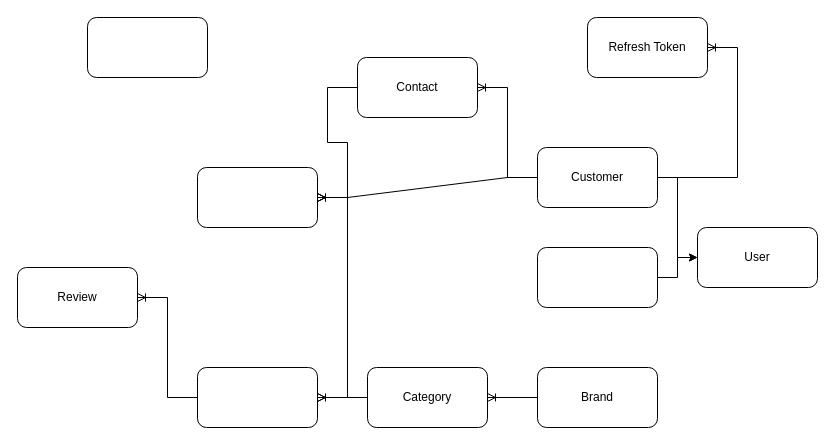
Image size: 835x445. Some labels were removed from this diagram. The shapes that lost their labels are listed below. From the top down, each one's centre as x and y in pixels, then its label:
[147,47]: About
[257,197]: Order
[597,277]: Admin
[257,397]: Product
